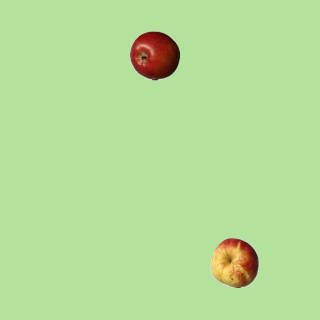Apple Braeburn: (129, 30, 179, 80)
Apple Red Yellow 1: (209, 237, 259, 287)
